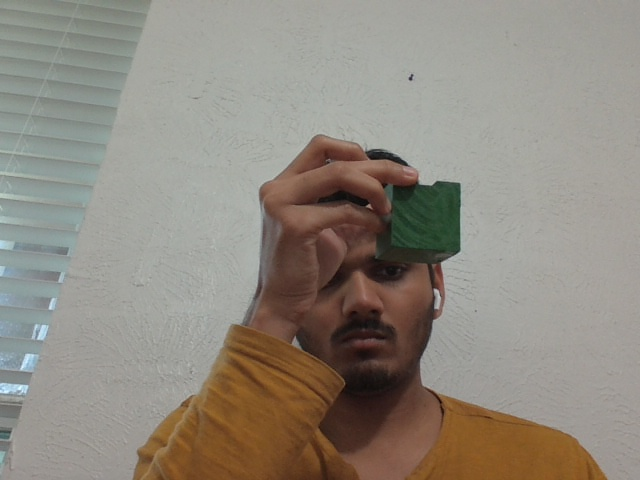GreenBlock: (388, 179, 461, 265)
